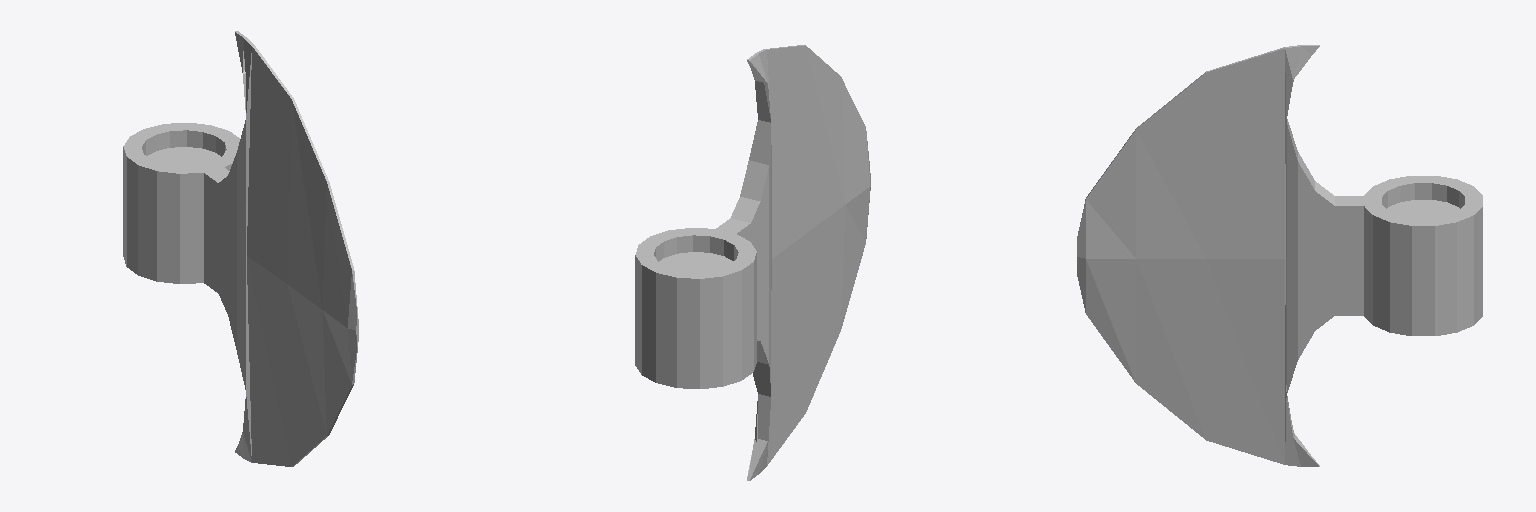
The model's file is axeHead2.obj.
3 views of the same model, side by side, from view 1: azimuth 30°, elevation 25°; view 2: azimuth 150°, elevation 25°; view 3: azimuth 270°, elevation 25° (orthographic).
Parts seen in each view (by area): view 1: Cylinder.001; view 2: Cylinder.001; view 3: Cylinder.001.
Part boxes in pixels (left/top/right/bottom): Cylinder.001: left=123, top=31, right=358, bottom=466; Cylinder.001: left=635, top=45, right=870, bottom=480; Cylinder.001: left=1077, top=45, right=1482, bottom=466.
Bounding box in the file's own units: 1.96 × 7.62 × 6.68.